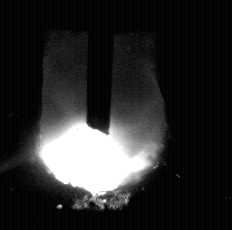arame: (88, 0, 111, 136)
poca: (38, 0, 165, 230)
